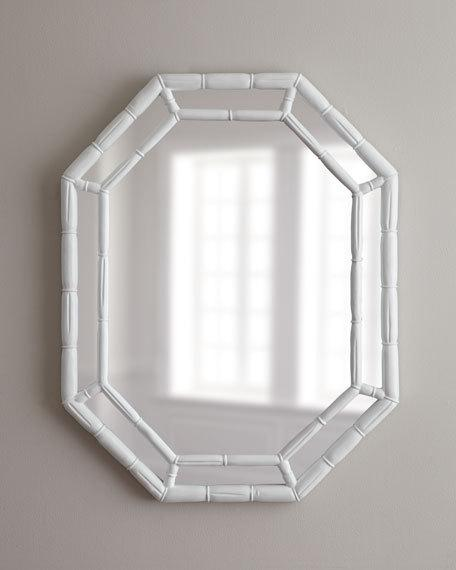Nonrec_Glass: (46, 48, 409, 512)
